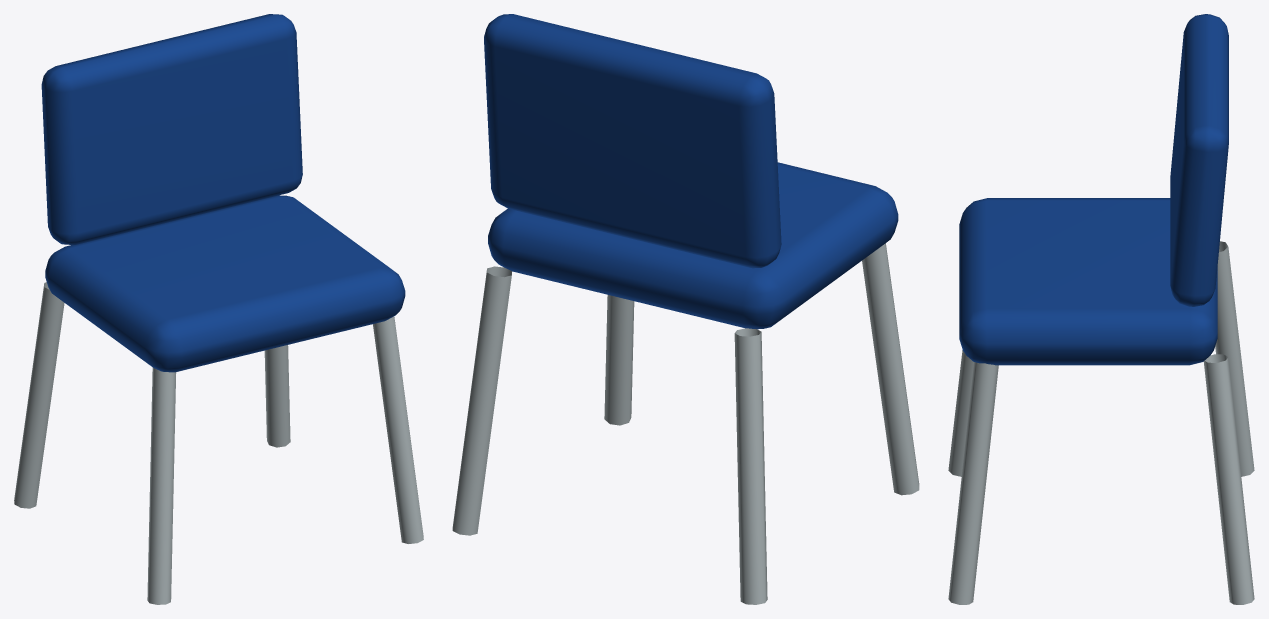
The model's file is prod-1773061941304-lkb5p.glb.
3 renders of one model, left to right at view 1: azimuth 30°, elevation 25°; view 2: azimuth 150°, elevation 25°; view 3: azimuth 270°, elevation 25°, orthographic. The views are drawn at different scales.
Parts seen in each view (by area): view 1: Upholstered seat.011, Chair leg.036; view 2: Upholstered seat.011, Chair leg.036; view 3: Upholstered seat.011, Chair leg.036.
Part boxes in pixels (bbox=[...]): Upholstered seat.011: bbox=[41, 14, 405, 372]; Chair leg.036: bbox=[14, 282, 423, 604]; Upholstered seat.011: bbox=[484, 14, 898, 329]; Chair leg.036: bbox=[452, 243, 919, 604]; Upholstered seat.011: bbox=[959, 14, 1228, 365]; Chair leg.036: bbox=[948, 241, 1254, 604].
Size of the model in its own units: 0.51 by 0.79 by 0.47.
